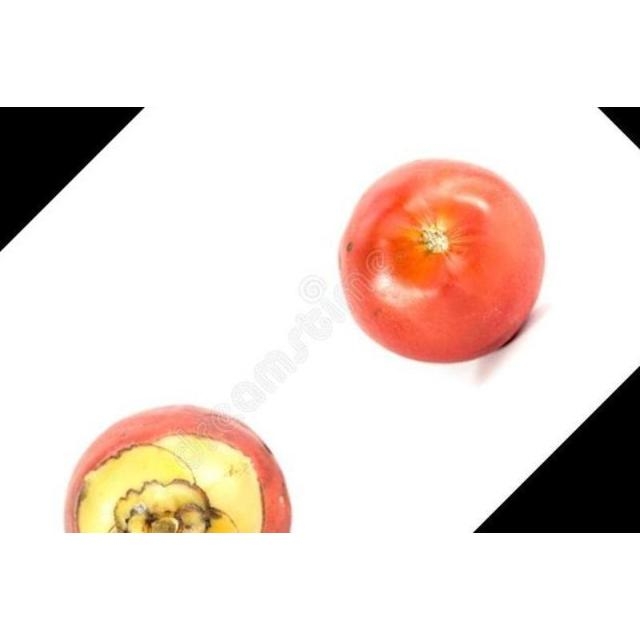good: (339, 159, 546, 365), (67, 408, 292, 533), (440, 285, 456, 303)
